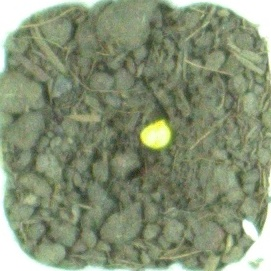pepper seed: (53, 44, 224, 194)
